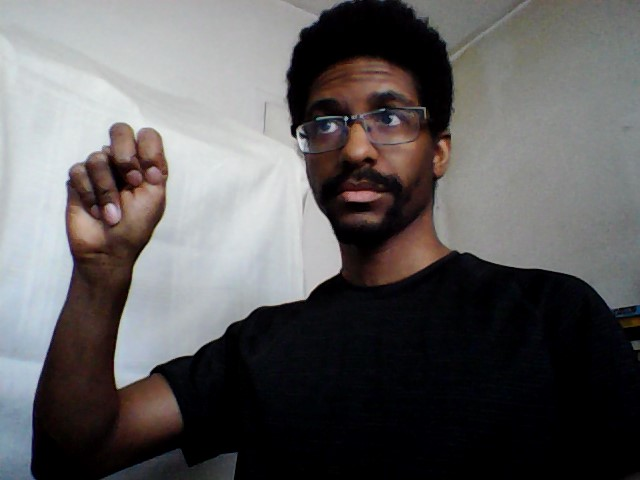n: (60, 117, 173, 264)
